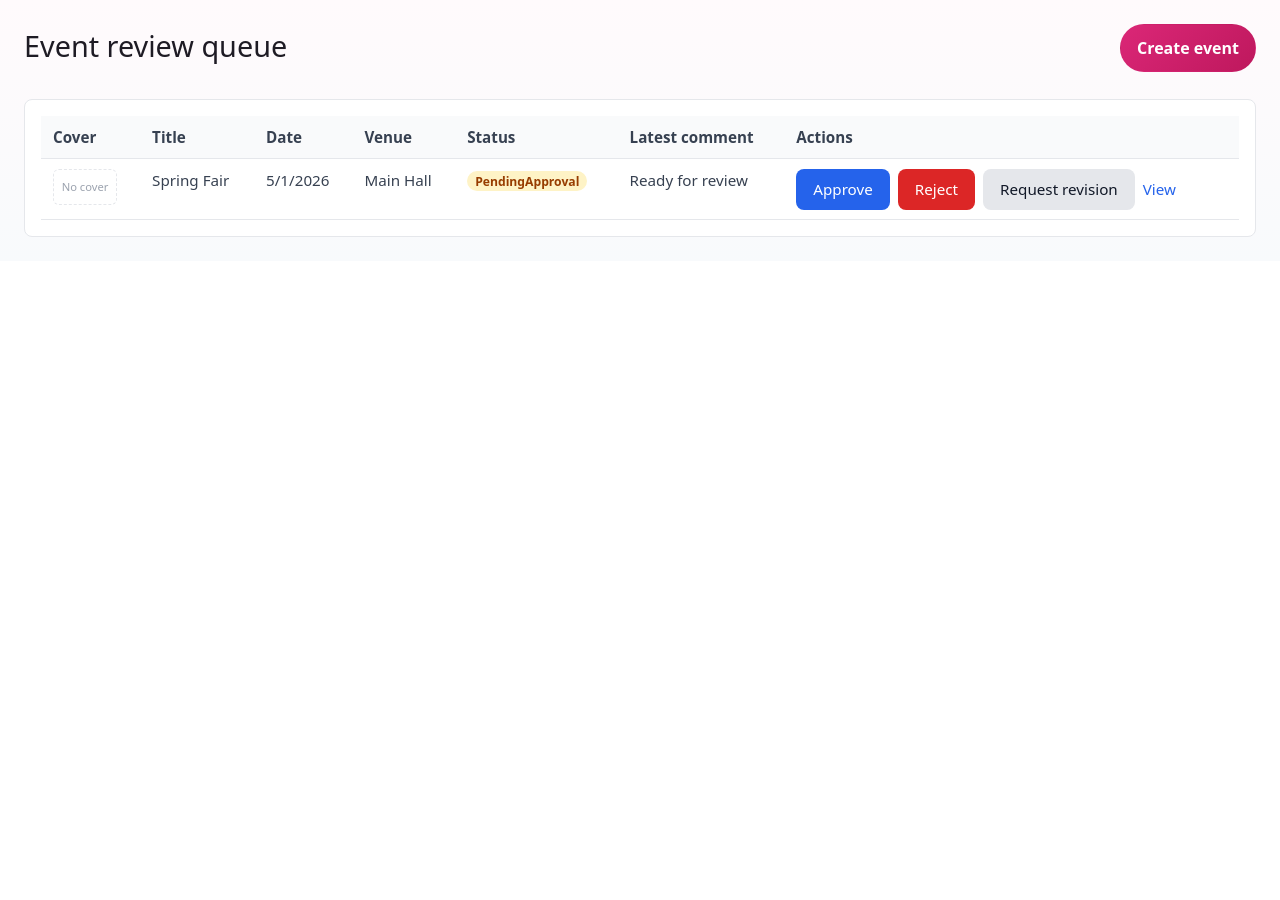
Scenario: ApprovalQueueView › requires a reason to reject
Click the button with test id "reject-p1" at (936, 189), box x1=898 y1=169 x2=975 y2=210
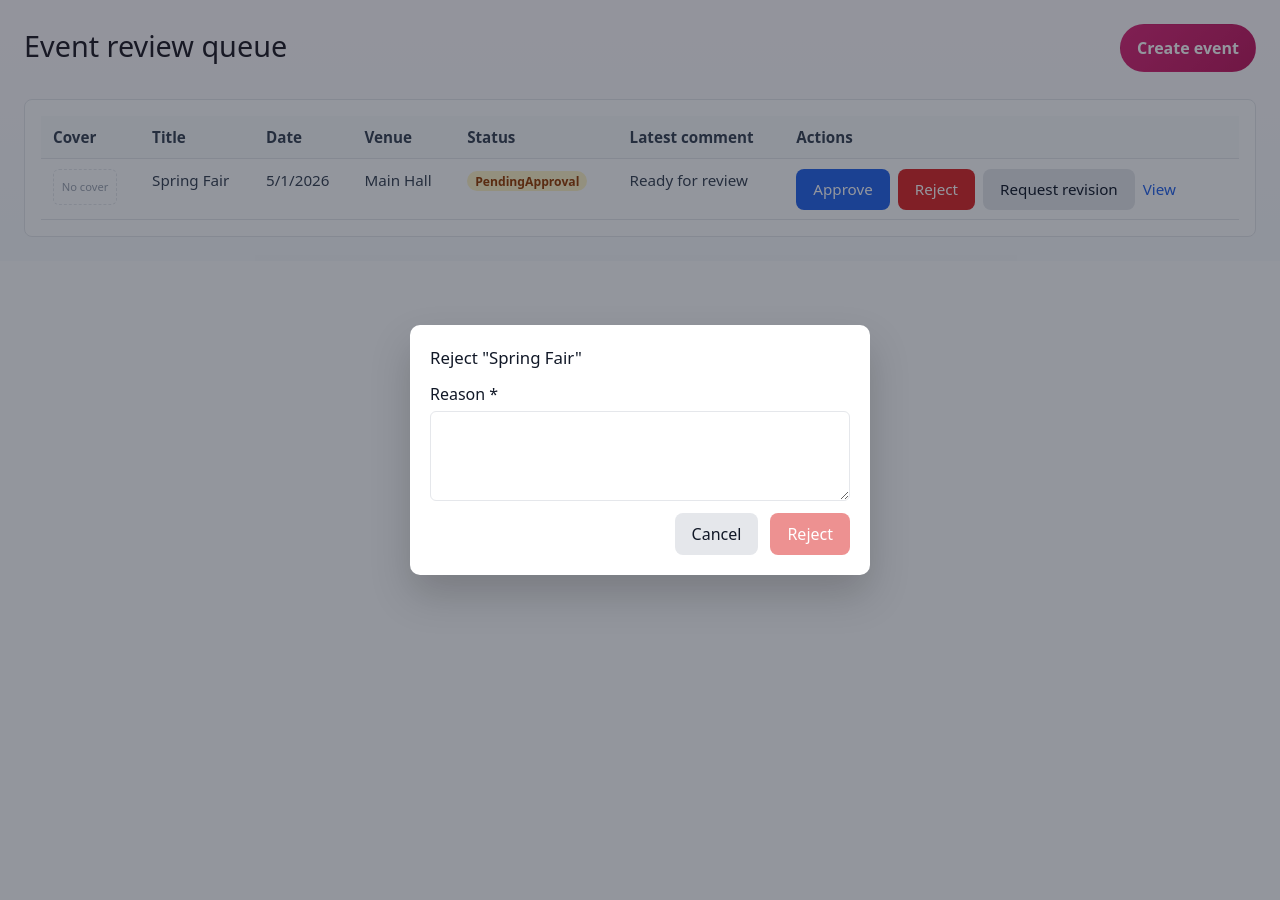
Expected: the button with test id "approval-dialog-confirm" is disabled, x1=770 y1=513 x2=850 y2=555
Type "Missing budget" into the text box with test id "approval-dialog-input" at (640, 456), box x1=430 y1=411 x2=850 y2=501
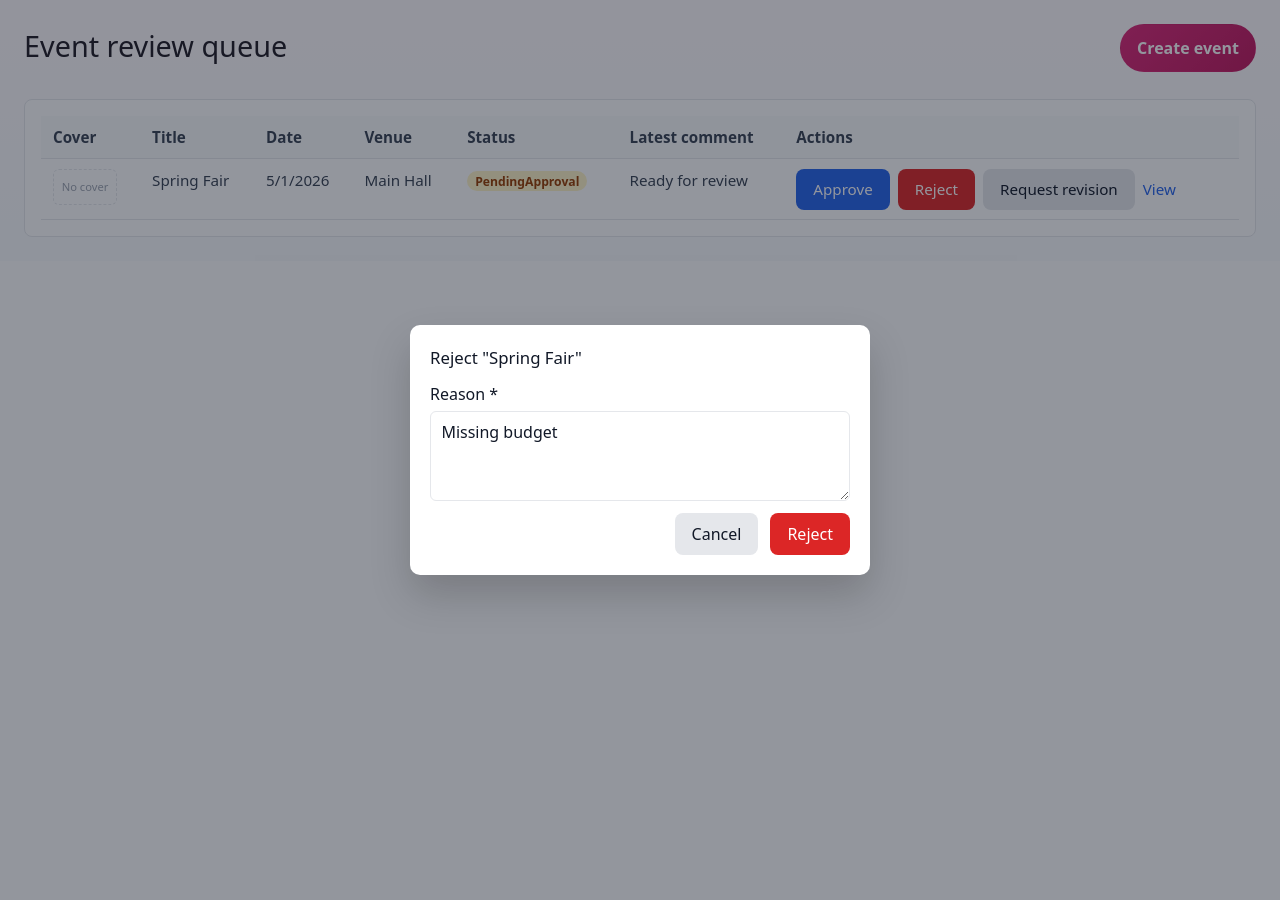
Click the button with test id "approval-dialog-confirm" at (810, 534), box x1=770 y1=513 x2=850 y2=555
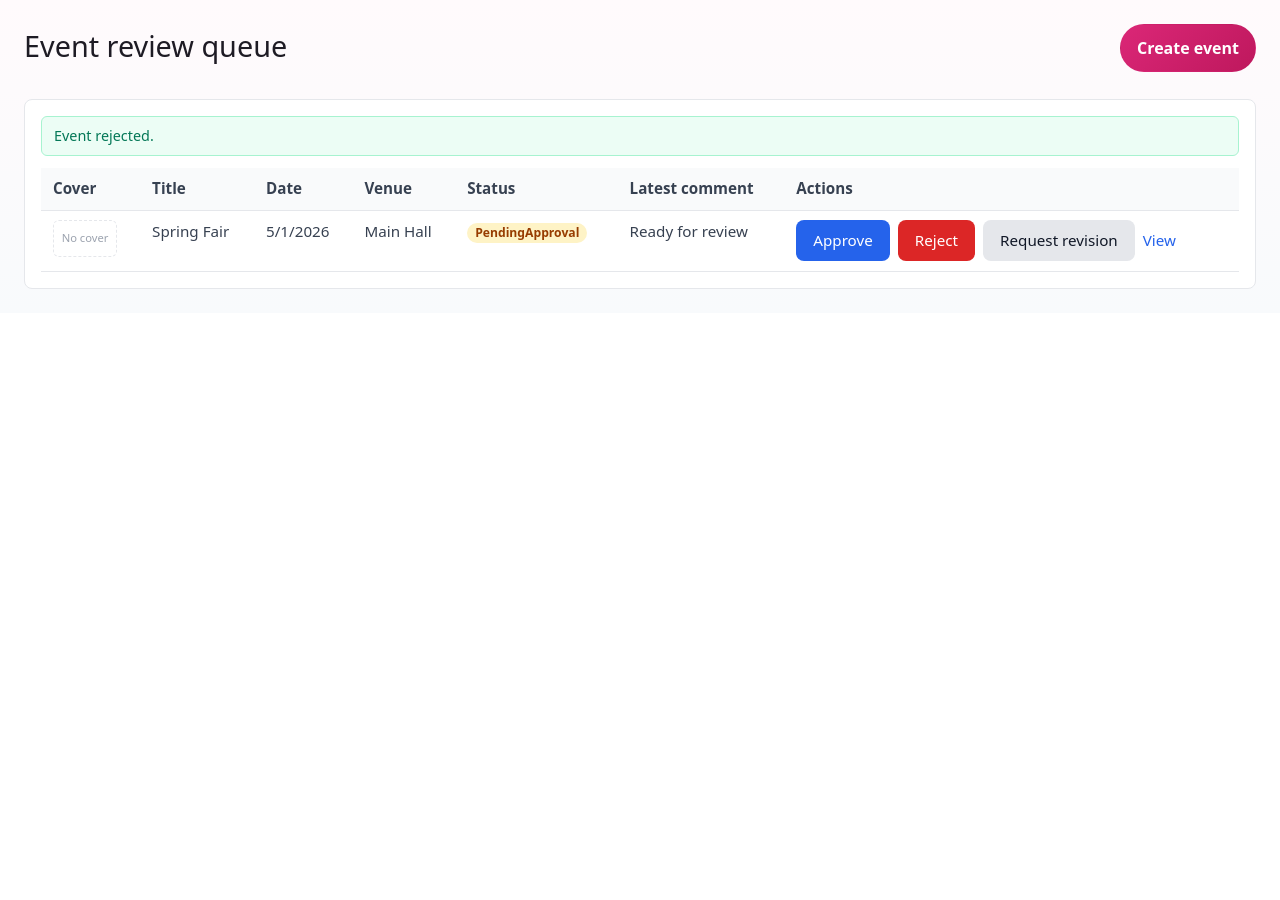
Expected: the message with test id "approvals-notice" shows "rejected", x1=54 y1=126 x2=154 y2=145
